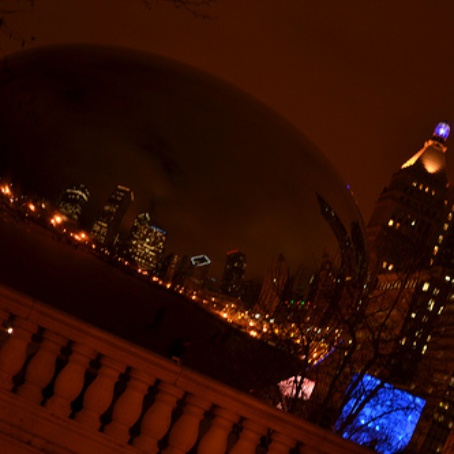building: (363, 129, 454, 358), (81, 181, 138, 247), (119, 210, 176, 276), (50, 176, 87, 229)
sky: (1, 1, 431, 141)
